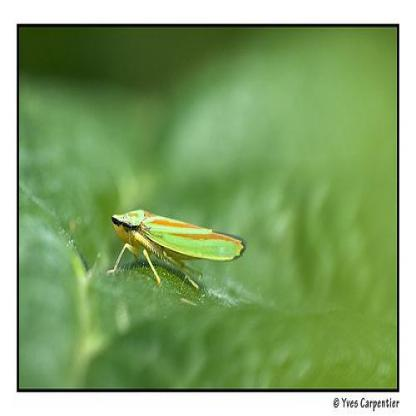green-leafhopper: (116, 201, 246, 287)
